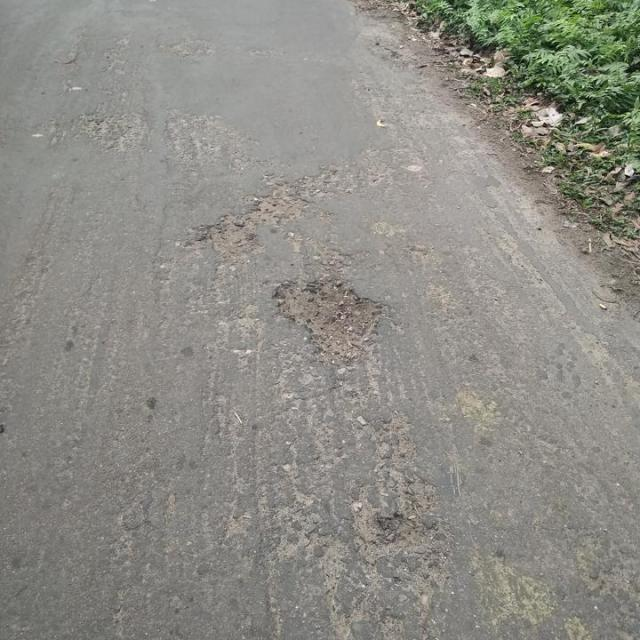Pothole: (271, 270, 389, 362), (200, 180, 308, 257), (376, 513, 428, 551)
